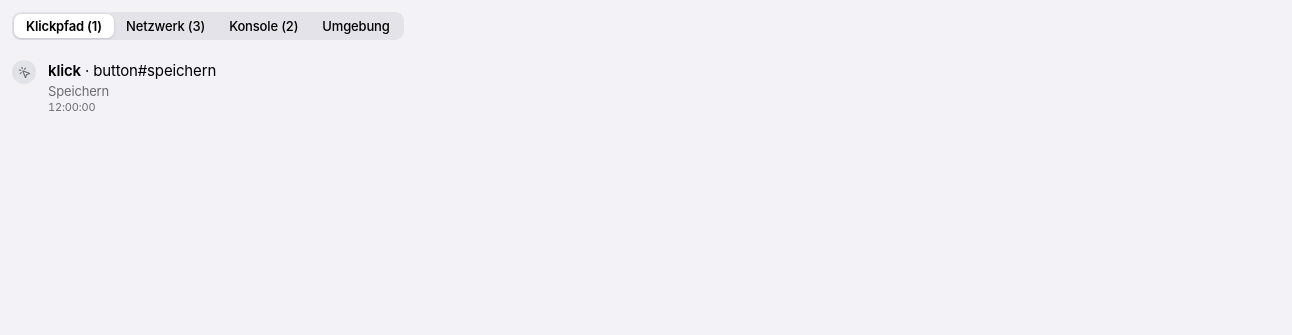
Test: KontextTabs › zeigt Umgebung inkl. Sitzung und App-State
Click the button "Umgebung". click: (356, 26)
box: x1=310 y1=14 x2=402 y2=38
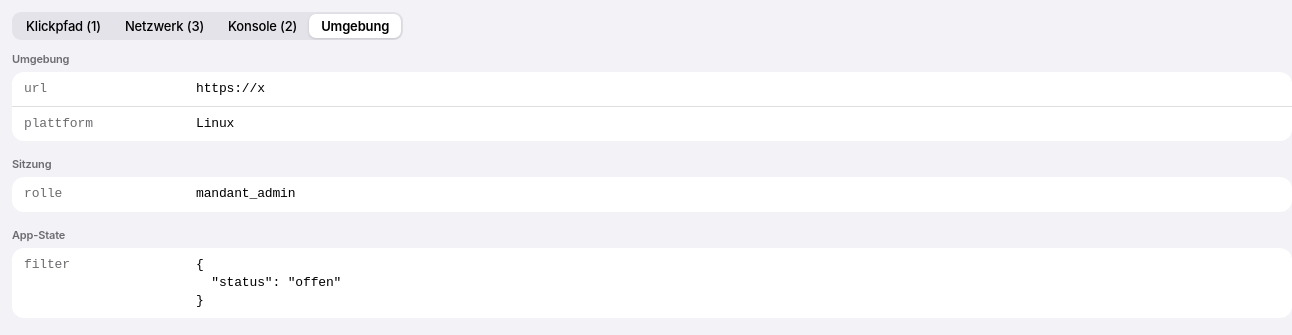
Expected: the text "plattform" is shown, x1=24 y1=116 x2=93 y2=131
Expected: the text "mandant_admin" is shown, x1=196 y1=186 x2=295 y2=201
Expected: the text "filter" is shown, x1=24 y1=256 x2=70 y2=272
